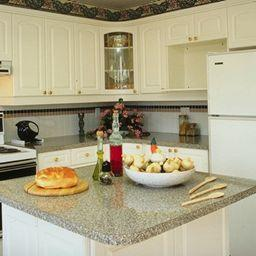Electrodomestico: (208, 55, 255, 177)
